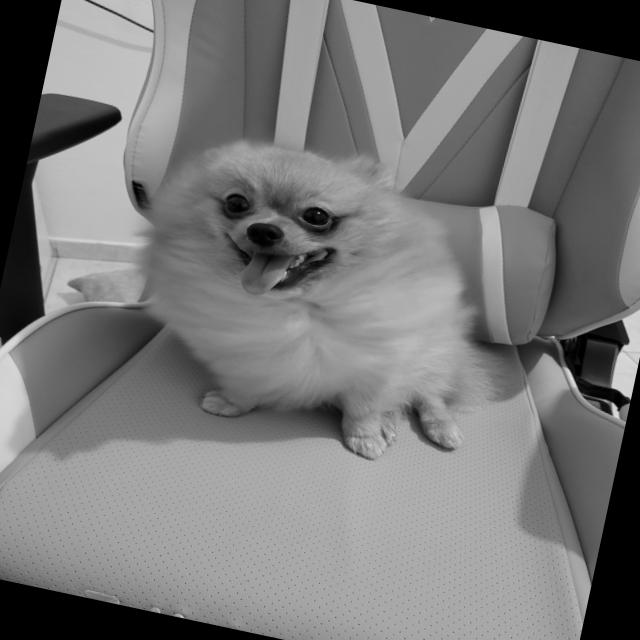sitting: (96, 108, 538, 487)
